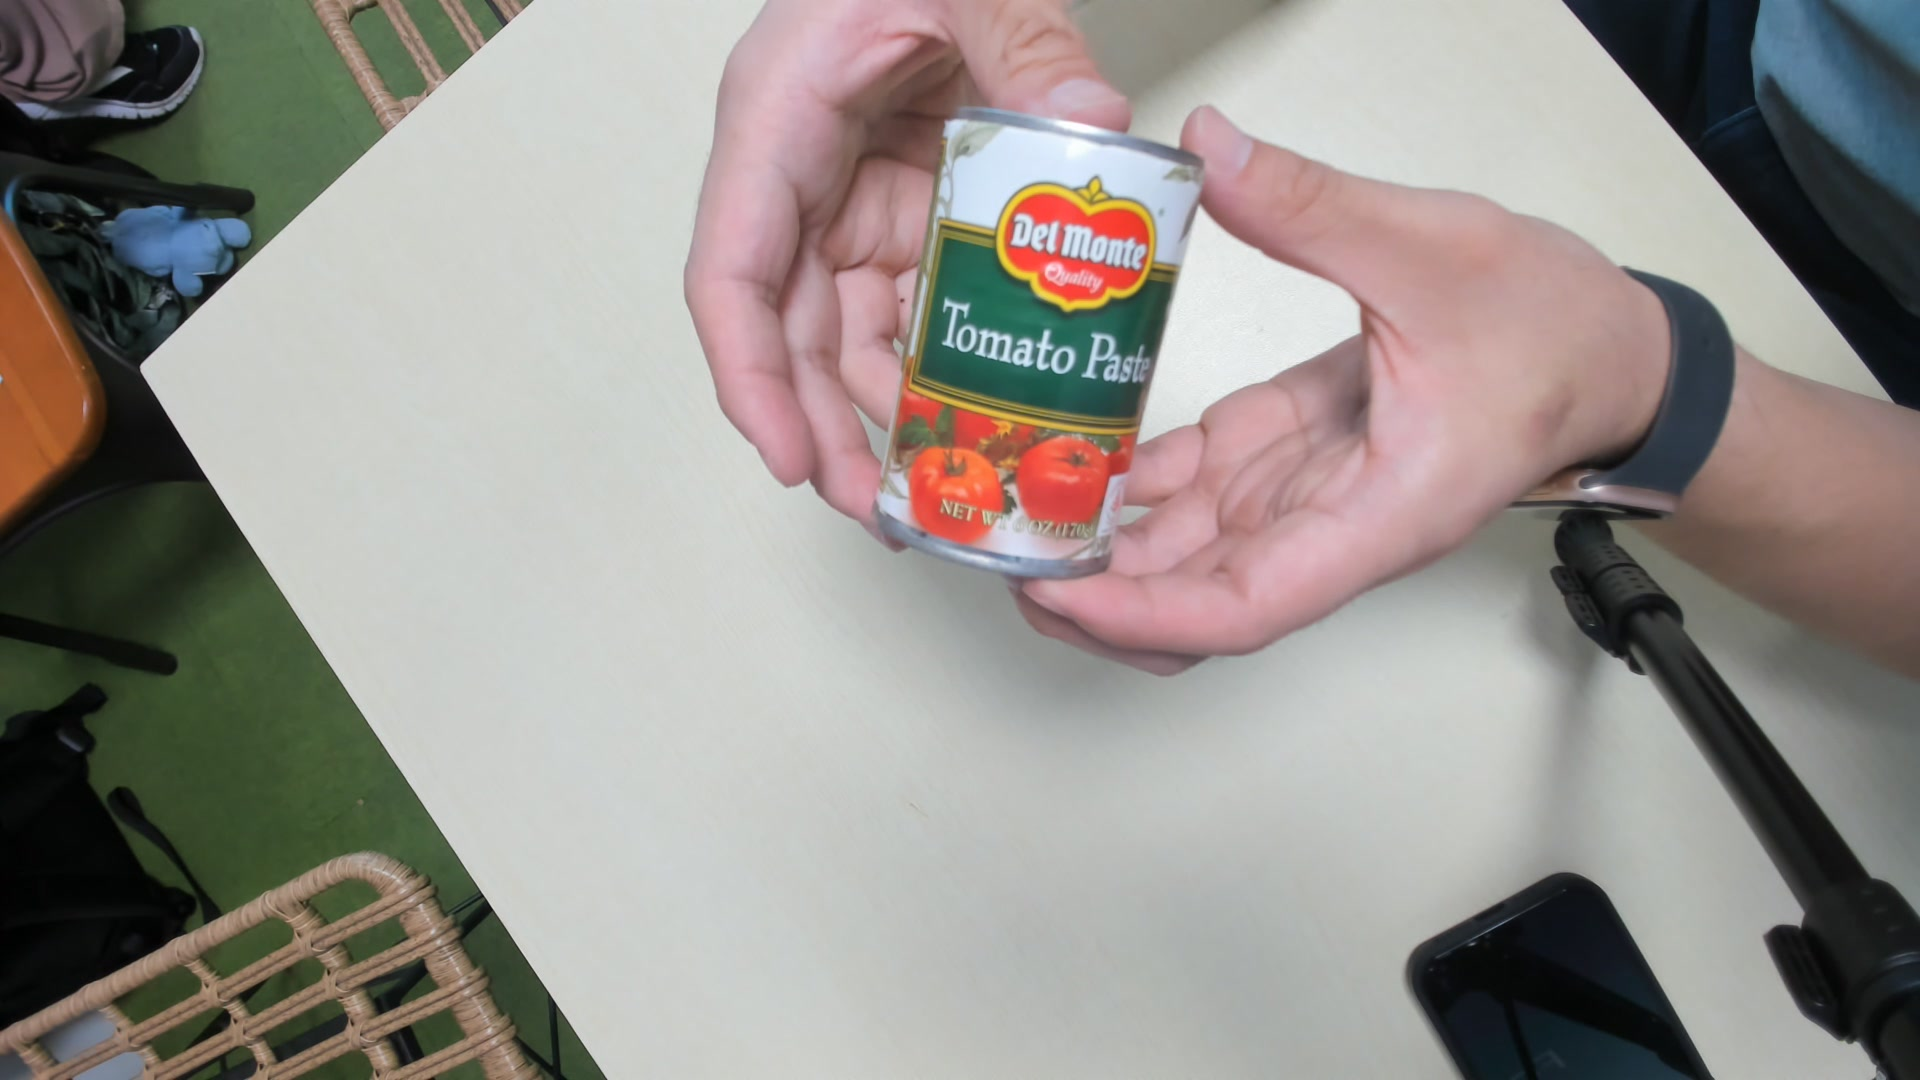OtherSauceDressing_100-199g_NonHalal_Healthy: (873, 105, 1205, 584)
